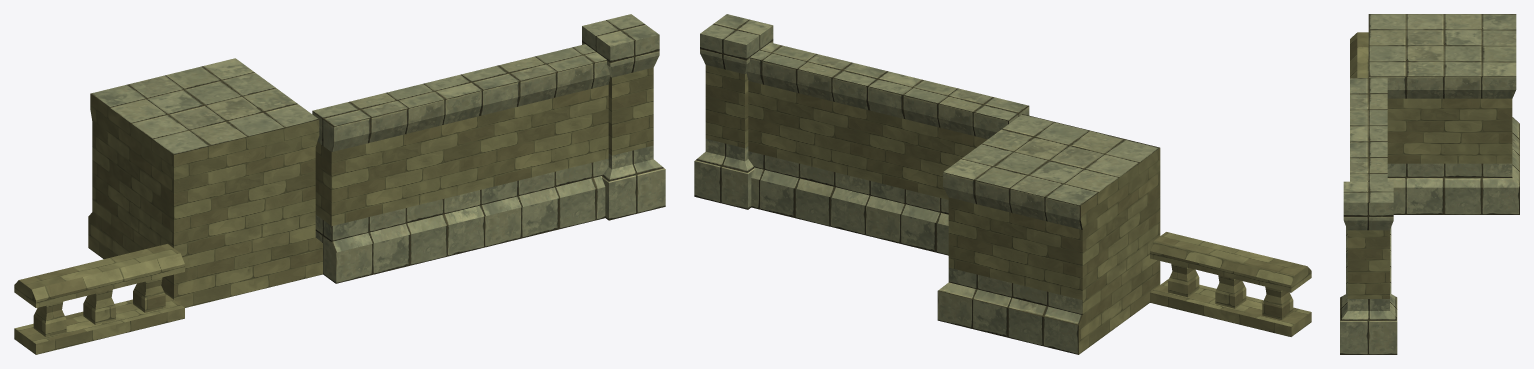
File: walls.glb
3 renders of one model, left to right at view 1: azimuth 30°, elevation 25°; view 2: azimuth 150°, elevation 25°; view 3: azimuth 270°, elevation 25°, orthographic. The views are drawn at different scales.
Parts seen in each view (by area): view 1: stoneblock, altwall, stonewall, stonefence, stonecolumn; view 2: stoneblock, stonewall, altwall, stonefence, stonecolumn; view 3: stoneblock, stonecolumn, altwall, stonewall, stonefence.
Boxes of the visible parts, box(x1,y1,x2,y2) form: stoneblock: box(88, 58, 322, 307); altwall: box(312, 74, 484, 283); stonewall: box(461, 44, 610, 247); stonefence: box(14, 244, 184, 354); stonecolumn: box(582, 14, 665, 220); stoneblock: box(937, 114, 1160, 354); stonewall: box(746, 42, 887, 235); altwall: box(865, 71, 1029, 255); stonefence: box(1150, 232, 1311, 336); stonecolumn: box(694, 14, 773, 209); stoneblock: box(1368, 14, 1519, 214); stonecolumn: box(1340, 181, 1397, 354); altwall: box(1346, 78, 1391, 250); stonewall: box(1346, 142, 1391, 293); stonefence: box(1350, 32, 1368, 77).
Size of the model in its own units: 4.19 by 1.1 by 1.19.
Materials: 10 (10 with a texture image).
